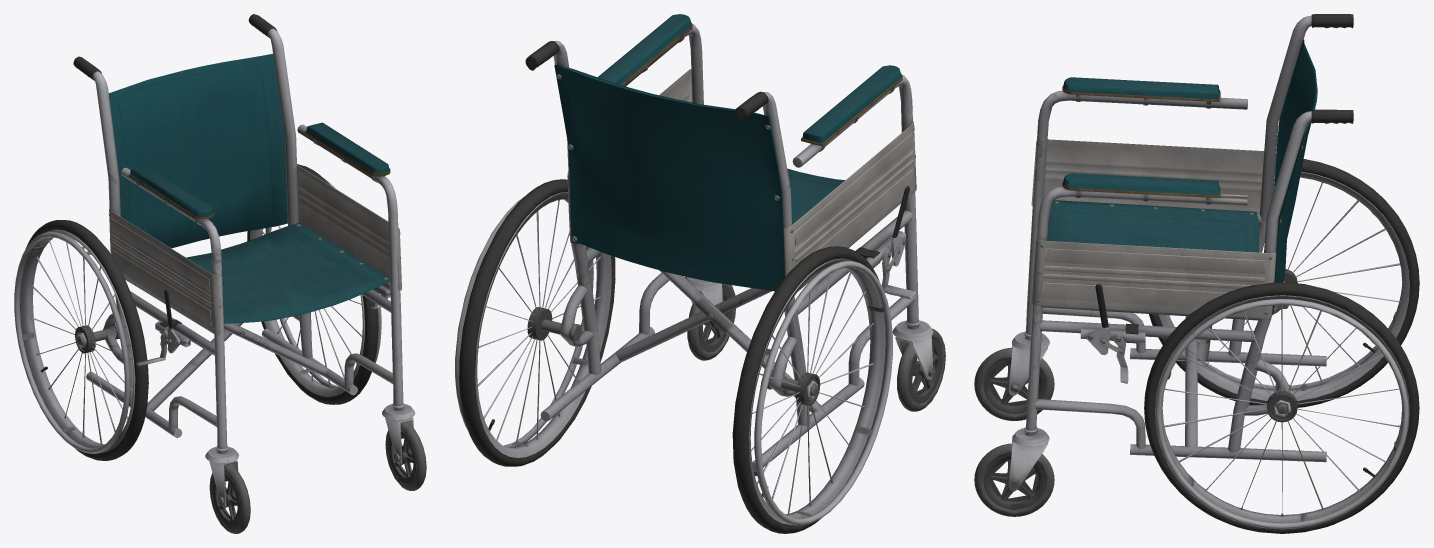
File: wheelchair_01.glb
3 views of the same model, side by side, from view 1: azimuth 30°, elevation 25°; view 2: azimuth 150°, elevation 25°; view 3: azimuth 270°, elevation 25° (orthographic). The views are drawn at different scales.
Visible parts, largest first — view 1: wheelchair_01_mesh; view 2: wheelchair_01_mesh; view 3: wheelchair_01_mesh.
Boxes of the visible parts, <box> form: wheelchair_01_mesh: <box>14,14,426,533</box>; wheelchair_01_mesh: <box>455,14,945,533</box>; wheelchair_01_mesh: <box>974,14,1419,533</box>.
Bounding box in the file's own units: 0.824 × 1.1 × 1.09.
Materials: 1 (1 with a texture image).
